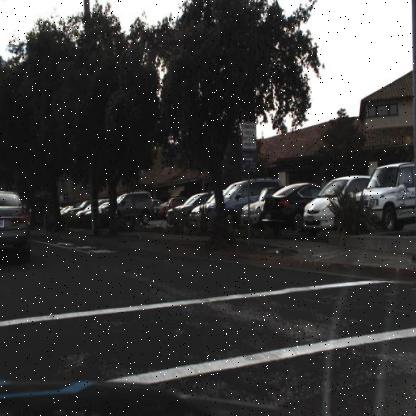car: (306, 175, 380, 234), (354, 162, 416, 232), (207, 178, 280, 226), (260, 179, 328, 230), (0, 186, 34, 275), (259, 182, 321, 223), (101, 189, 155, 229), (242, 178, 283, 228), (168, 191, 211, 229), (190, 190, 222, 223), (242, 186, 269, 220), (85, 198, 110, 229), (59, 201, 77, 232), (77, 198, 93, 227)
